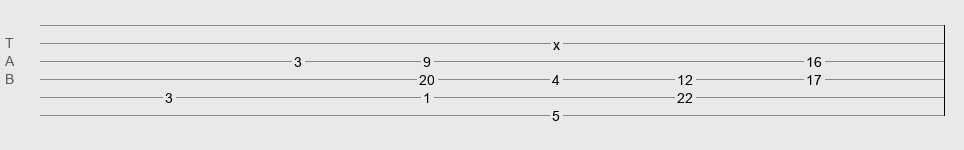1: (423, 90, 431, 100)
12: (677, 72, 693, 82)
16: (806, 54, 822, 64)
17: (806, 72, 822, 82)
20: (419, 72, 435, 82)
22: (677, 90, 693, 100)
3: (165, 90, 173, 100), (294, 54, 302, 64)
4: (552, 72, 560, 82)
5: (552, 108, 560, 118)
9: (423, 54, 431, 64)
x: (553, 37, 560, 45)
